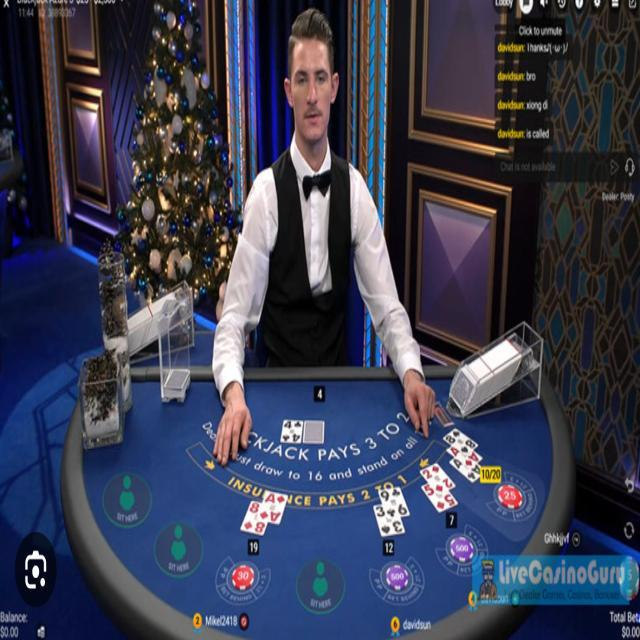Card-2: (420, 462, 456, 496)
Card-3: (373, 505, 405, 537)
Card-4: (281, 419, 304, 443)
Card-5: (421, 483, 459, 514)
Card-8: (443, 427, 479, 456), (240, 500, 268, 535)
Card-9: (378, 486, 410, 520)
Card-A: (257, 490, 288, 524), (449, 457, 485, 483), (446, 446, 483, 469)
